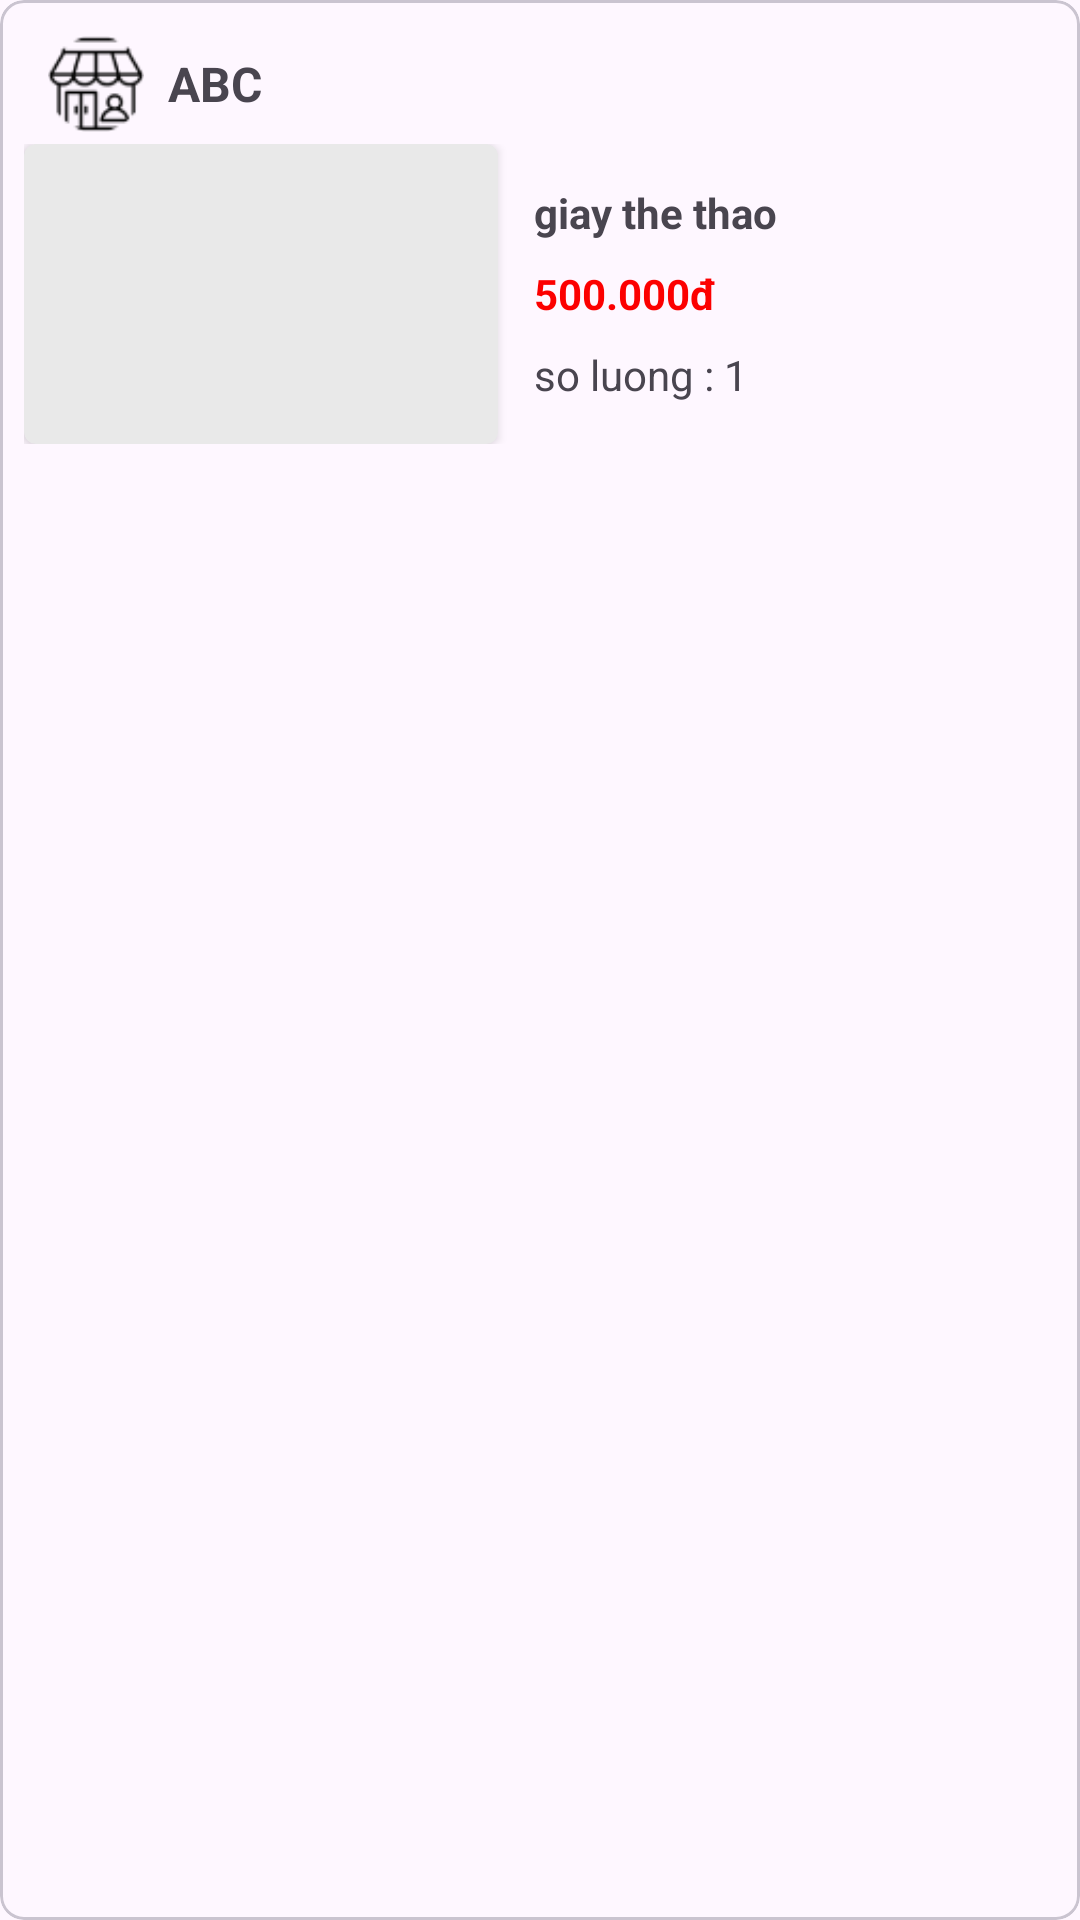

Where icons sit on this 1080px×1920px app screen, as (x1, y1, x2, y2):
store: (48, 37, 144, 131)
